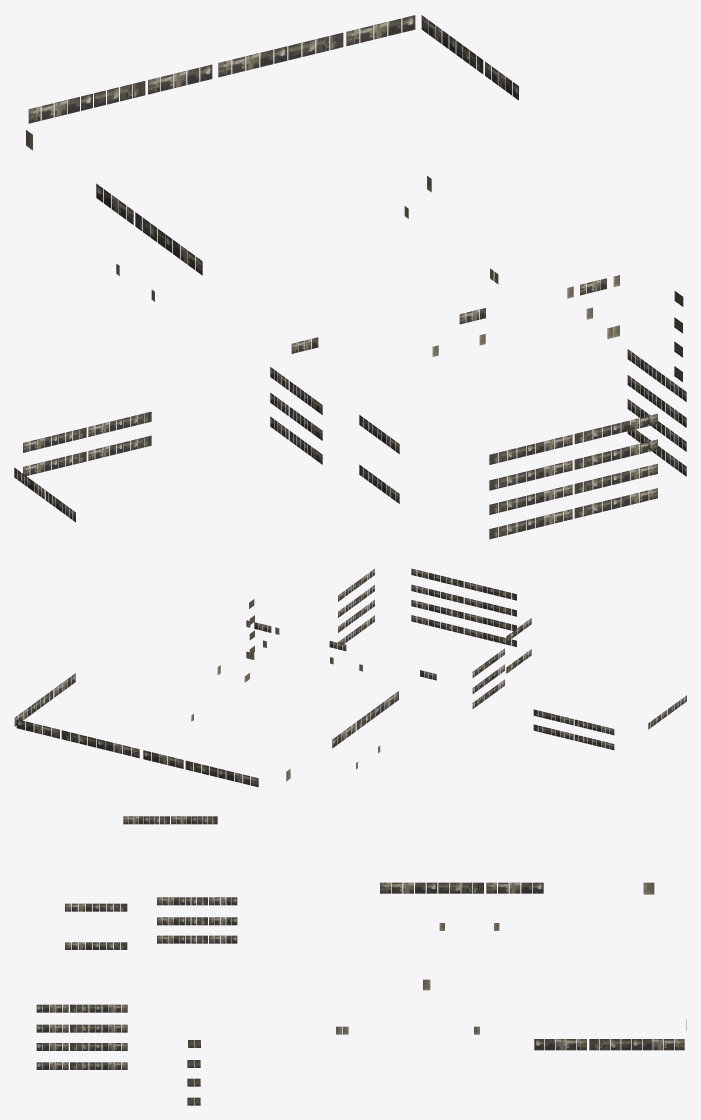
The model's file is sfw_nitlite1.obj.
The picture shows the model from 3 angles, top to bottom: view 1: azimuth 30°, elevation 25°; view 2: azimuth 150°, elevation 25°; view 3: azimuth 270°, elevation 25°; orthographic projection. The views are drawn at different scales.
Visible parts, largest first — view 1: sfw_nitlite1; view 2: sfw_nitlite1; view 3: sfw_nitlite1.
Boxes of the visible parts, left/top/right/bottom form: sfw_nitlite1: left=14, top=15, right=686, bottom=539; sfw_nitlite1: left=14, top=568, right=686, bottom=787; sfw_nitlite1: left=36, top=816, right=686, bottom=1105.
Bounding box in the file's own units: 204 × 32.16 × 218.
Materials: 1 (1 with a texture image).
